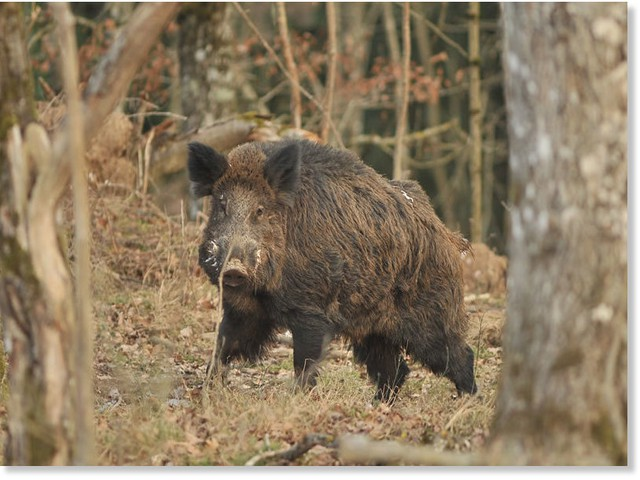Pig: (184, 131, 488, 393)
